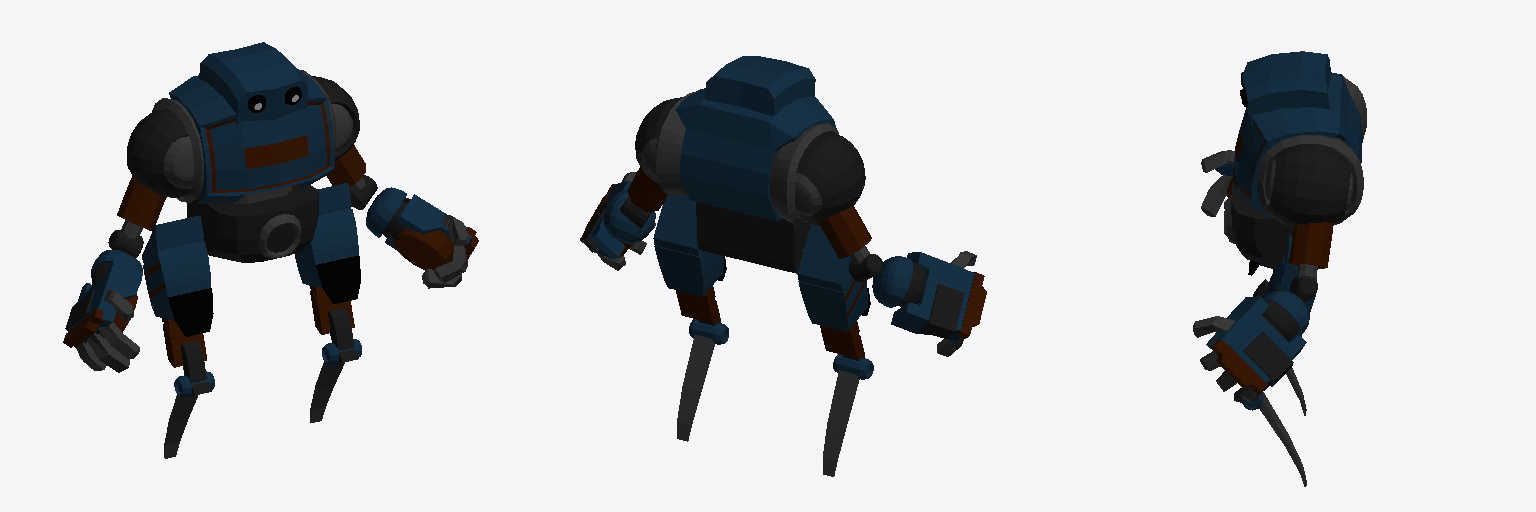
The model's file is Mike.obj.
3 views of the same model, side by side, from view 1: azimuth 30°, elevation 25°; view 2: azimuth 150°, elevation 25°; view 3: azimuth 270°, elevation 25° (orthographic).
Parts seen in each view (by area): view 1: Mike_Cube.010; view 2: Mike_Cube.010; view 3: Mike_Cube.010.
Boxes of the visible parts, <box> form: Mike_Cube.010: <box>63,42,478,458</box>; Mike_Cube.010: <box>580,56,986,476</box>; Mike_Cube.010: <box>1193,51,1366,486</box>.
Bounding box in the file's own units: 5.55 × 5.13 × 2.1.